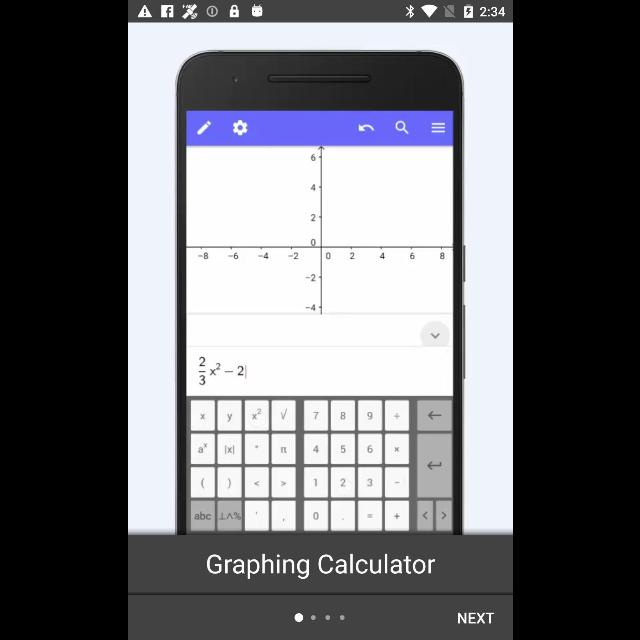image: (173, 49, 465, 535)
pageindicator: (294, 614, 344, 622)
text: (207, 553, 436, 579), (456, 612, 494, 624)
uppertaskbar: (128, 1, 512, 23)
